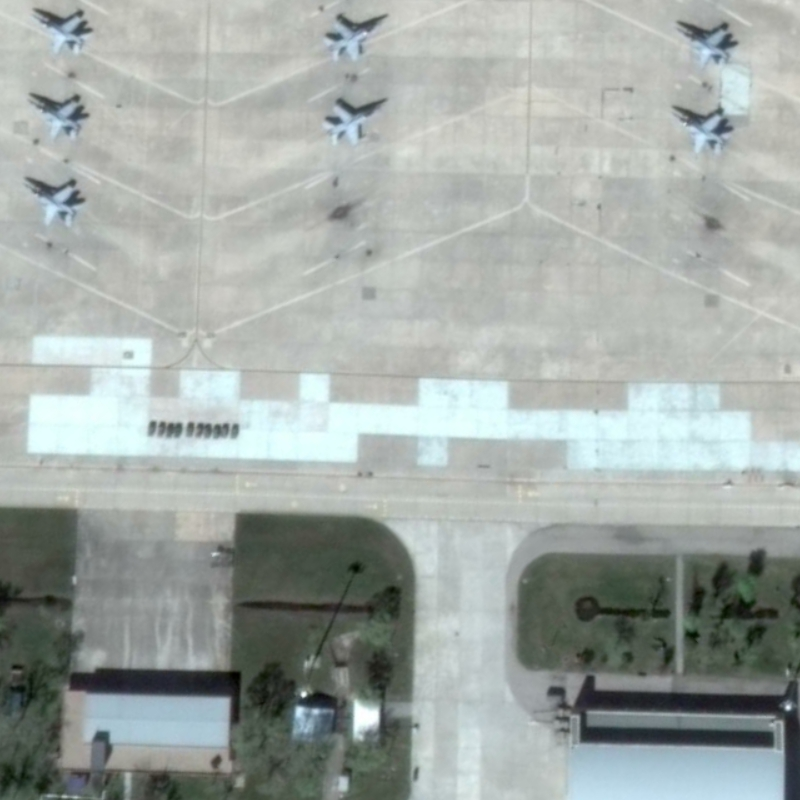A16: (318, 93, 392, 147), (320, 10, 393, 63), (19, 176, 88, 232), (665, 106, 736, 158), (26, 9, 96, 60), (669, 21, 737, 71), (25, 95, 94, 143)
